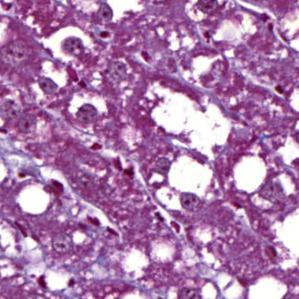steatosis: (230, 152, 276, 200), (19, 183, 52, 221)
